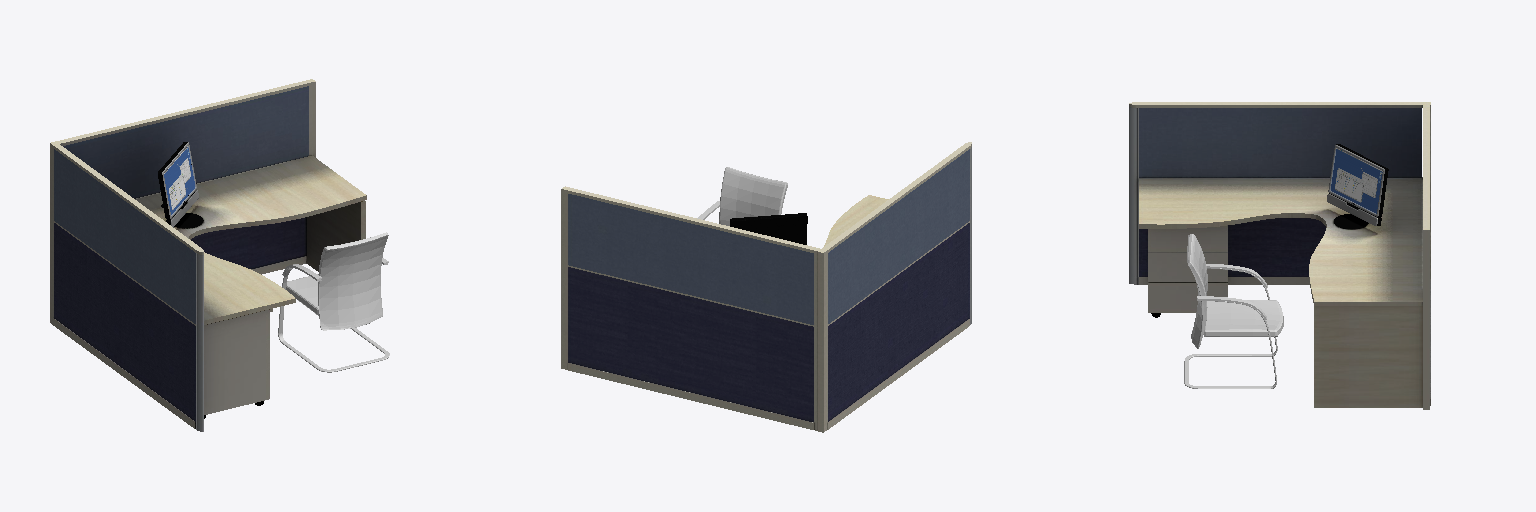
The picture shows the model from 3 angles: view 1: azimuth 30°, elevation 25°; view 2: azimuth 150°, elevation 25°; view 3: azimuth 270°, elevation 25°; orthographic projection.
Parts seen in each view (by area): view 1: __257, Line[number redacted], Arch35_022_167; view 2: __257, Line[number redacted], Arch35_022_167; view 3: __257, Line[number redacted], Arch35_022_167.
Boxes of the visible parts, box(x1,y1,x2,y2) form: __257: box(50, 79, 366, 431); Line[number redacted]: box(278, 232, 389, 372); Arch35_022_167: box(158, 142, 203, 227); __257: box(561, 142, 971, 432); Line[number redacted]: box(697, 167, 787, 225); Arch35_022_167: box(730, 213, 807, 244); __257: box(1129, 102, 1430, 409); Line[number redacted]: box(1184, 234, 1283, 388); Arch35_022_167: box(1327, 144, 1388, 228).
Size of the model in its own units: 184 by 120 by 182.
Materials: 3 (2 with a texture image).